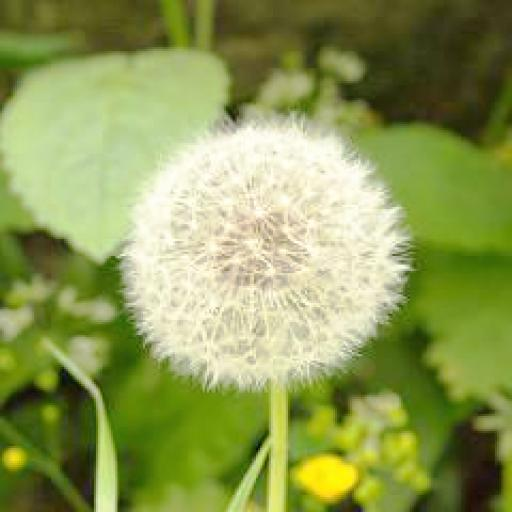dandelion: (128, 113, 410, 399)
